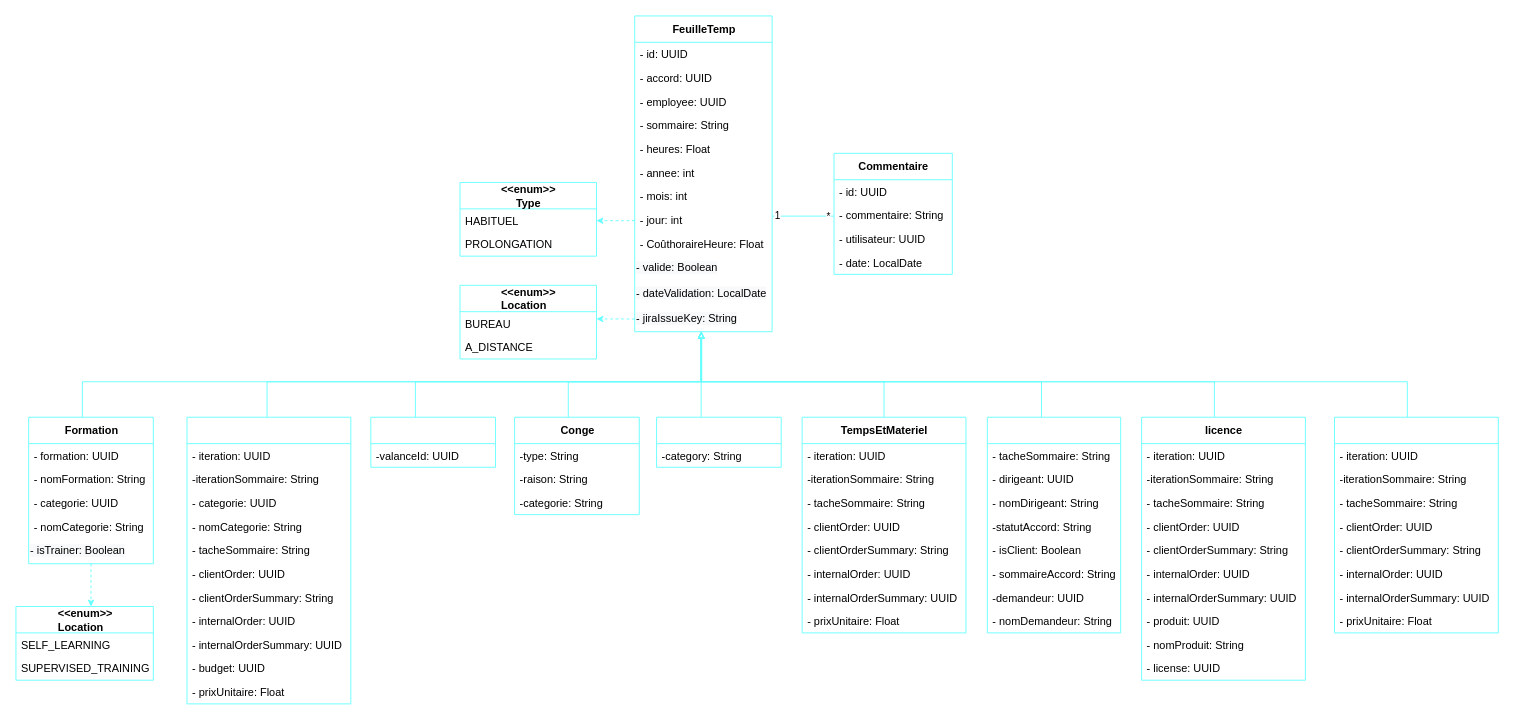
Image size: 1514x723. Some labels were removed from this diagram. Each missing label, with the box of its shape:
AutreAcivite: (656, 416, 781, 467)
AvantVente: (986, 416, 1121, 633)
PrixFixe: (186, 416, 351, 704)
ProgrammeDeSoutien: (1334, 416, 1498, 633)
Vacance: (370, 416, 495, 467)
